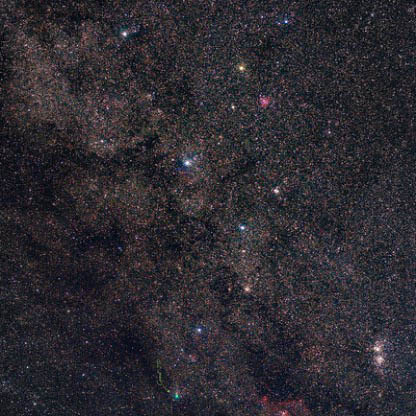Cassiopeia: (219, 56, 253, 114), (225, 211, 256, 243), (180, 310, 213, 337), (179, 155, 208, 176), (114, 24, 138, 46)
